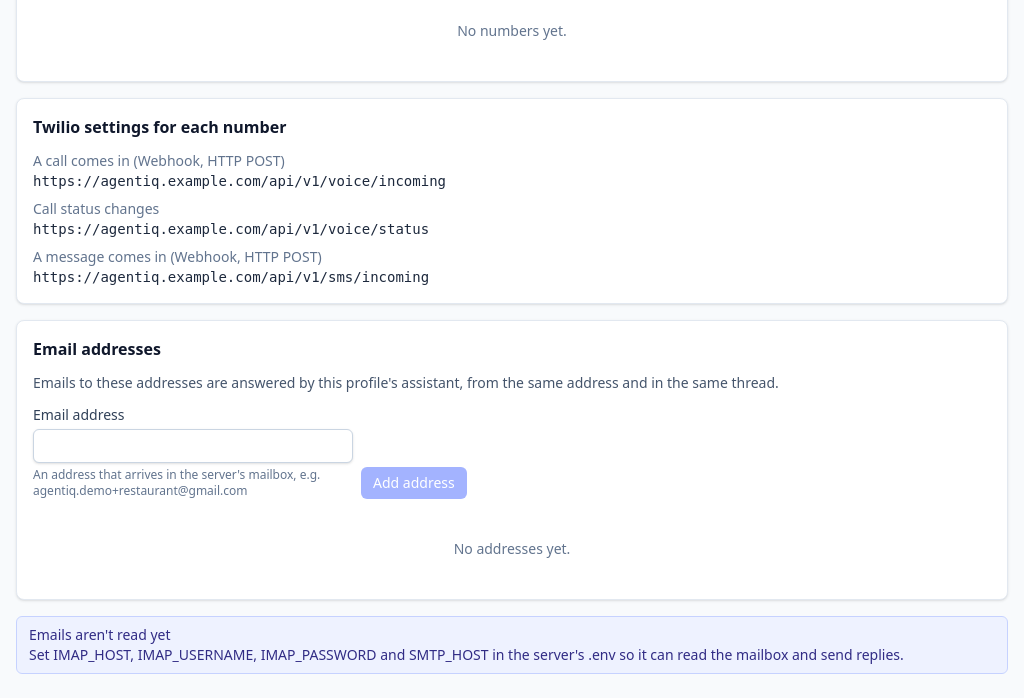
Test: channels › connects an email address on the mailbox the server reads
(page scrolled)
Expected: the text "No addresses yet." is shown, [454,539,570,558]
Expected: the text "Emails aren't read yet" is shown, [29,625,170,644]
Type "agentiq.demo+restaurant@gmail.com" into the field labelled "Email address" at (193, 446), box [33,429,353,463]
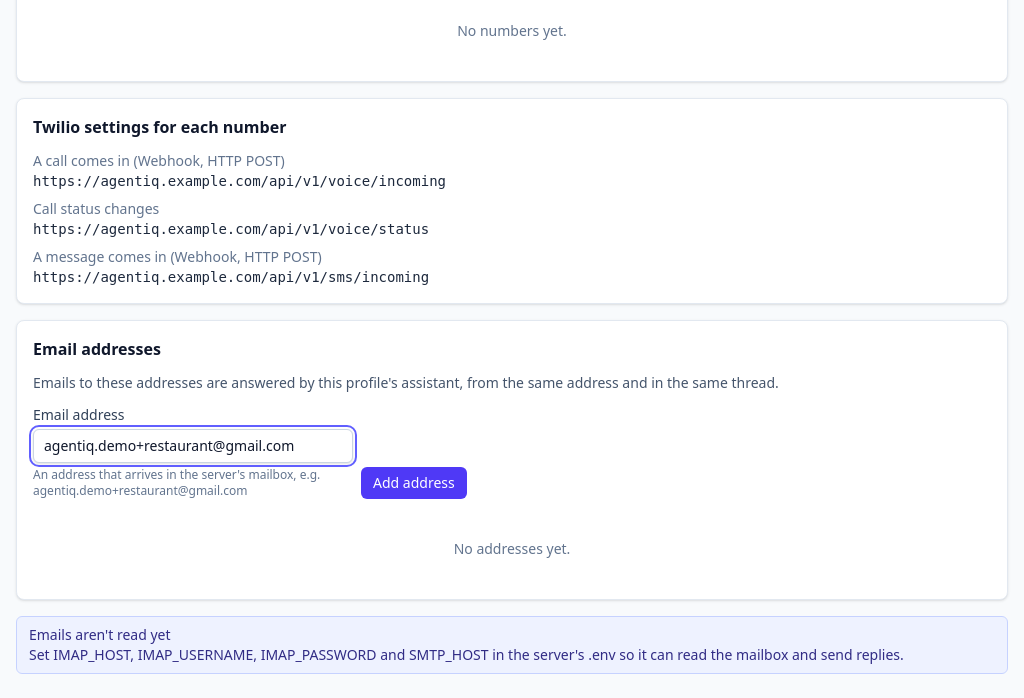
Click the button "Add address" at (414, 483), box [361,467,467,499]
(page scrolled)
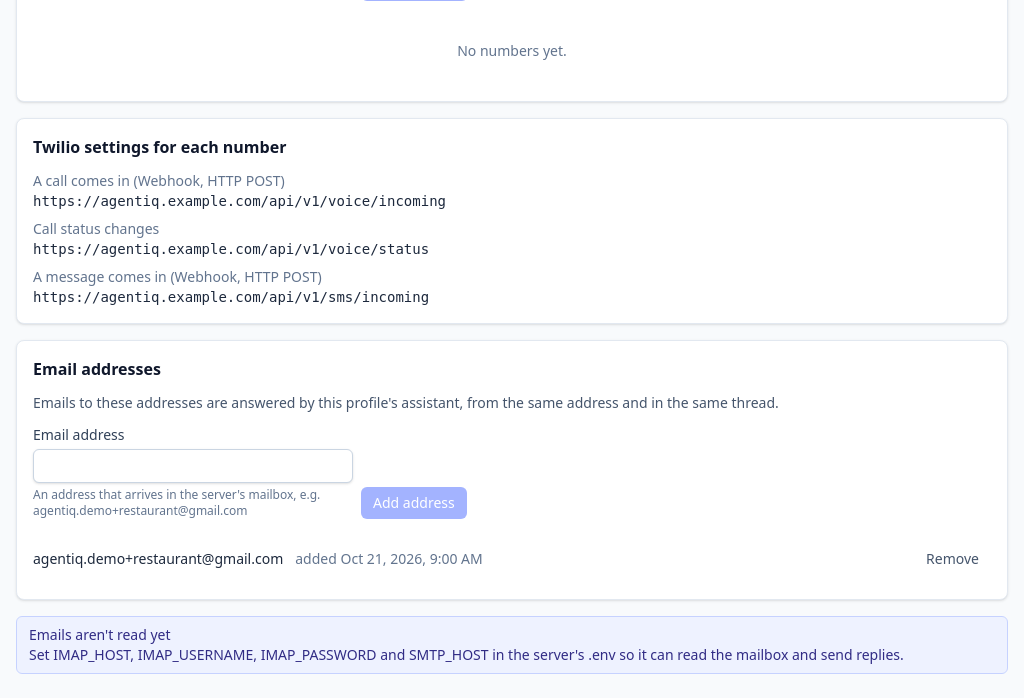
Now the text "agentiq.demo+restaurant@gmail.com" is shown, box [33,549,283,568]
